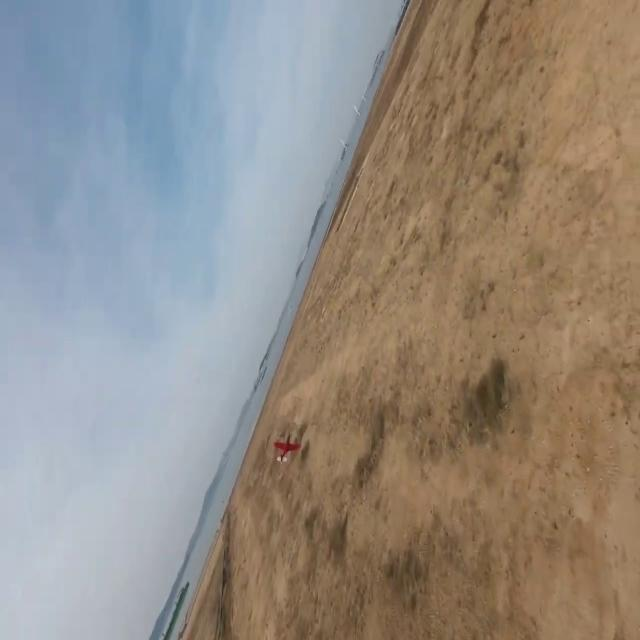iha: (272, 431, 312, 466)
